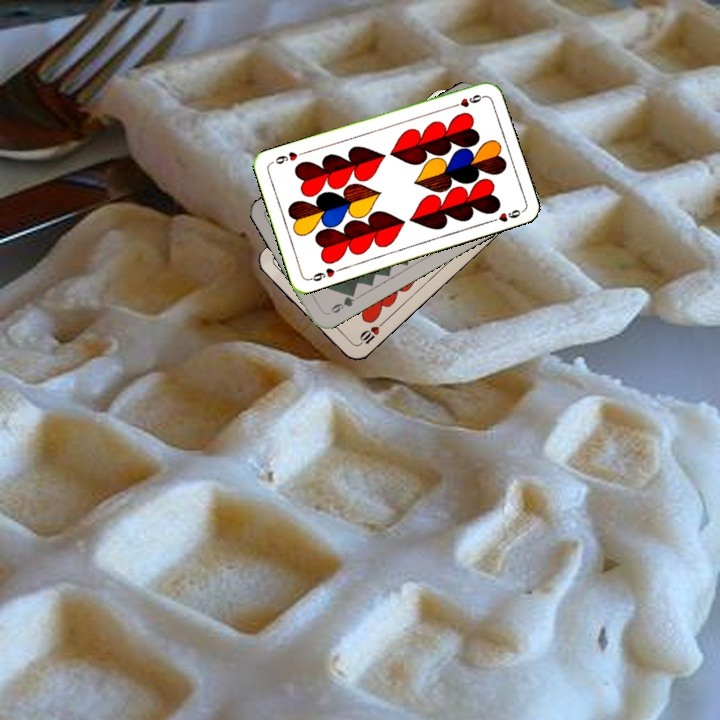G9: (324, 288, 358, 318)
H10: (353, 318, 387, 349)
H9: (447, 90, 487, 110), (305, 264, 344, 284)
